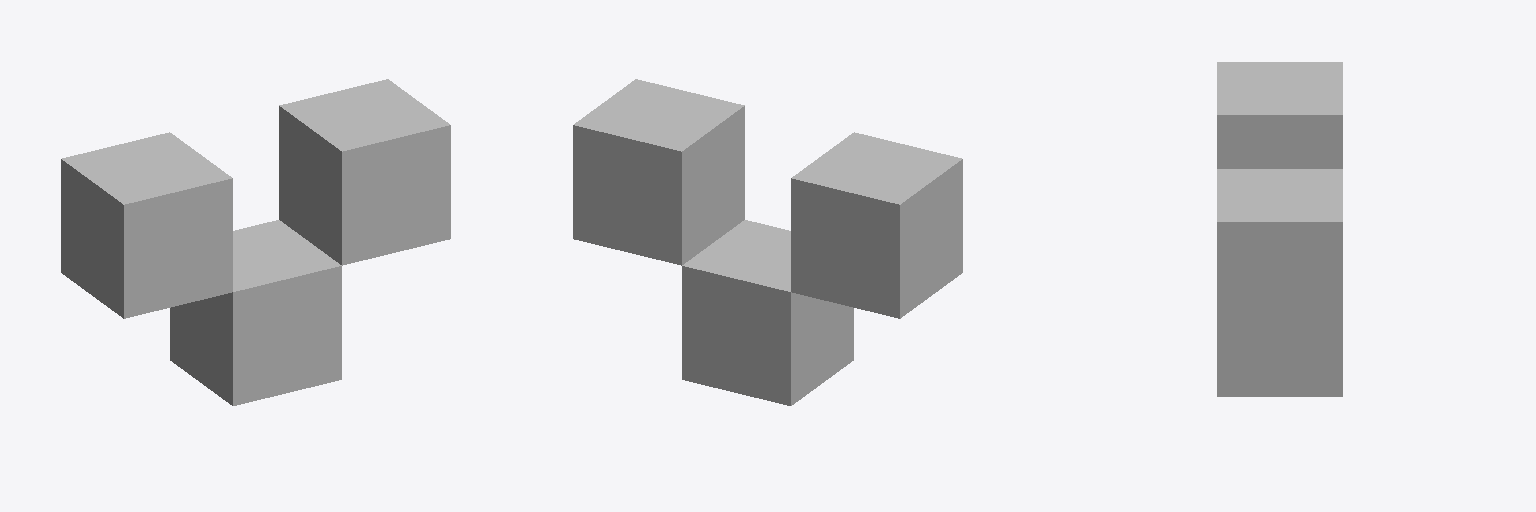
Rendered from Weapons-12-29 Hammer.obj.
3 renders of one model, left to right at view 1: azimuth 30°, elevation 25°; view 2: azimuth 150°, elevation 25°; view 3: azimuth 270°, elevation 25°, orthographic.
Visible parts, largest first — view 1: 29 Hammer; view 2: 29 Hammer; view 3: 29 Hammer.
Part boxes in pixels (x1,y1,x2,y2): 29 Hammer: (61, 79, 450, 405); 29 Hammer: (573, 79, 962, 405); 29 Hammer: (1217, 62, 1342, 396).
Size of the model in its own units: 0.3 by 0.2 by 0.1.